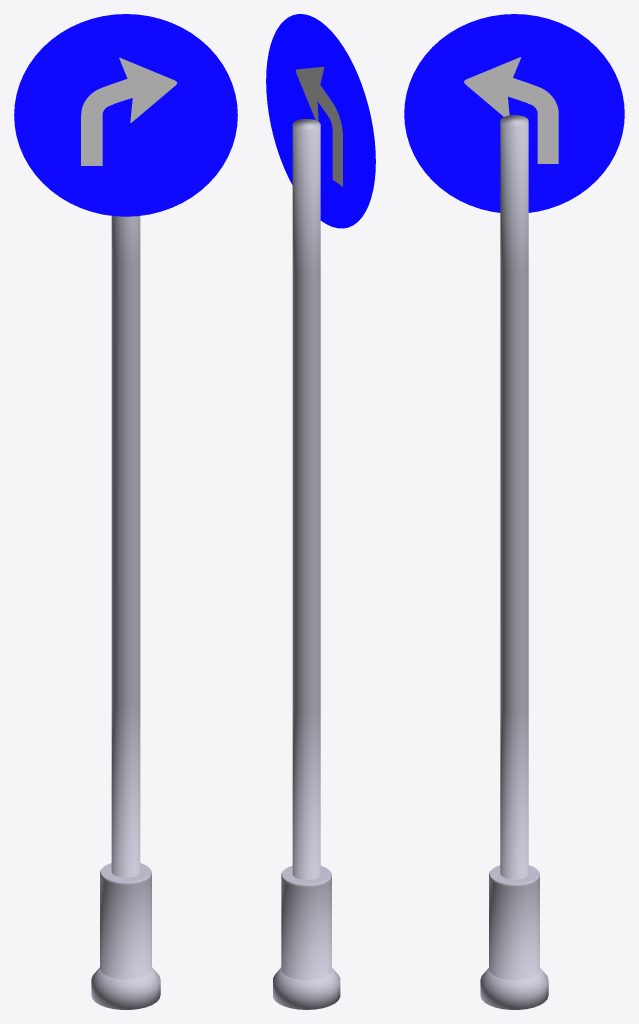
Rendered from SagaMecburiYonTabelasi.dae.
3 views of the same model, side by side, from view 1: azimuth 90°, elevation 25°; view 2: azimuth 210°, elevation 25°; view 3: azimuth 270°, elevation 25° (orthographic).
Parts seen in each view (by area): view 1: turnRightSing, turnRightBody; view 2: turnRightBody, turnRightSing; view 3: turnRightSing, turnRightBody.
Part boxes in pixels (x1=…): turnRightSing: x1=14, y1=14, x2=237, y2=216; turnRightBody: x1=91, y1=216, x2=160, y2=1009; turnRightBody: x1=273, y1=118, x2=340, y2=1009; turnRightSing: x1=266, y1=14, x2=375, y2=228; turnRightSing: x1=404, y1=14, x2=624, y2=212; turnRightBody: x1=480, y1=115, x2=548, y2=1009.
Size of the model in its own units: 0.1839 by 0.6 by 2.93.
